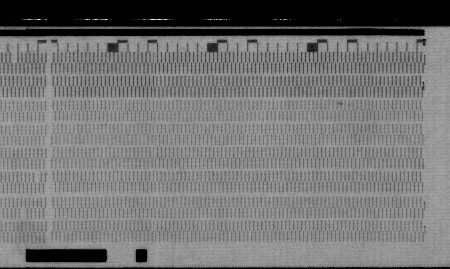Broken hole: (31, 172, 44, 185), (8, 52, 21, 64), (18, 207, 29, 220)
Oblique printing: (417, 194, 430, 209), (419, 219, 431, 235), (419, 52, 431, 66), (418, 76, 429, 91)
